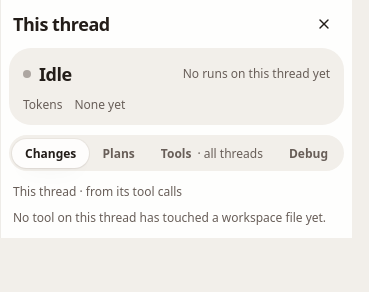
Test: the plans tab › asks for this thread’s plans, by suffix
What coordinates should you click on to do the following:
click the tab "Plans"
I would click on:
 (119, 153)
Its box is [89,139,148,168].
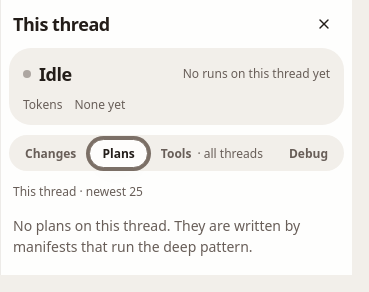
Expected: the text "No plans on this thread" is shown, [13,216,300,256]
